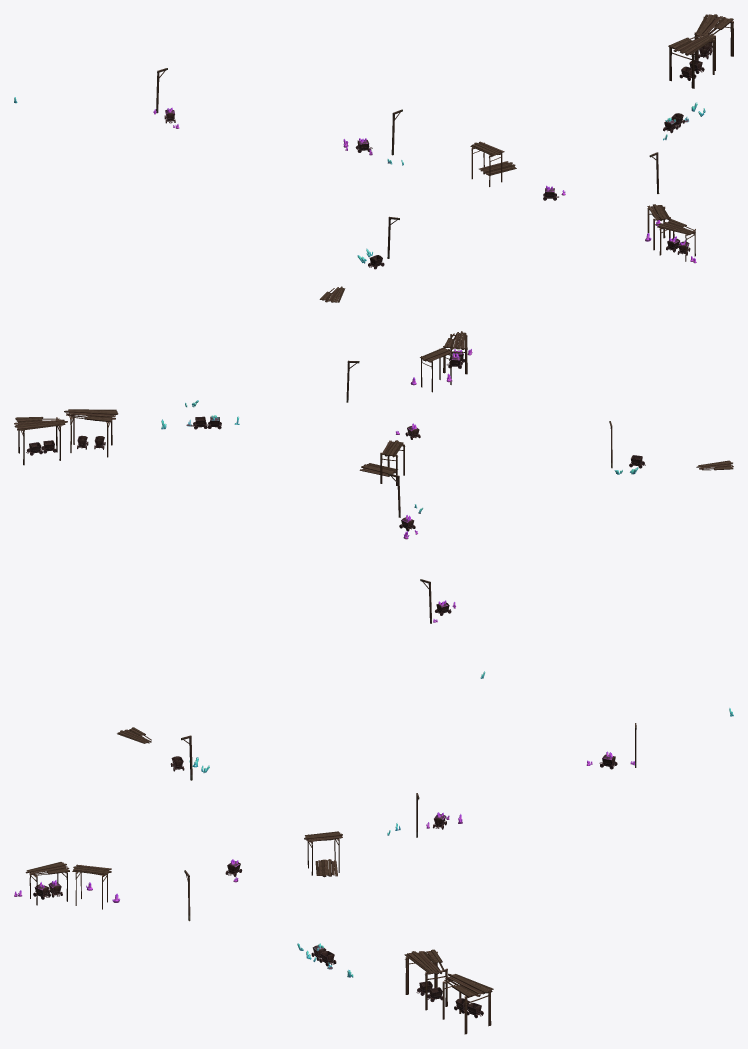
File: area_15_shuijing.FBX
3 renders of one model, top to bottom at view 1: azimuth 30°, elevation 25°; view 2: azimuth 150°, elevation 25°; view 3: azimuth 270°, elevation 25°, orthographic. The views are drawn at different scales.
Parts seen in each view (by area): view 1: area_15_shuijing; view 2: area_15_shuijing; view 3: area_15_shuijing.
Part boxes in pixels (left/top/right/bottom): area_15_shuijing: left=14, top=14, right=733, bottom=302; area_15_shuijing: left=14, top=331, right=733, bottom=678; area_15_shuijing: left=14, top=708, right=733, bottom=1034.
Bounding box in the file's own units: 12429 × 971 × 12103.
